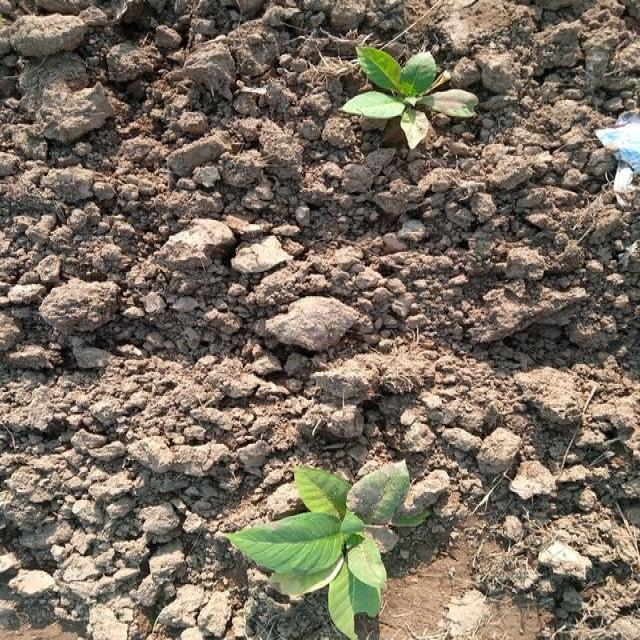crop: (227, 462, 409, 640), (337, 39, 477, 145)
